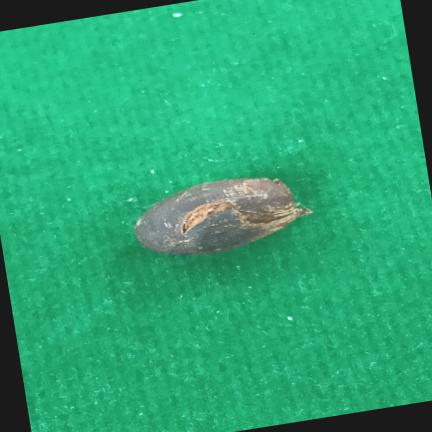husk: (135, 178, 312, 255)
